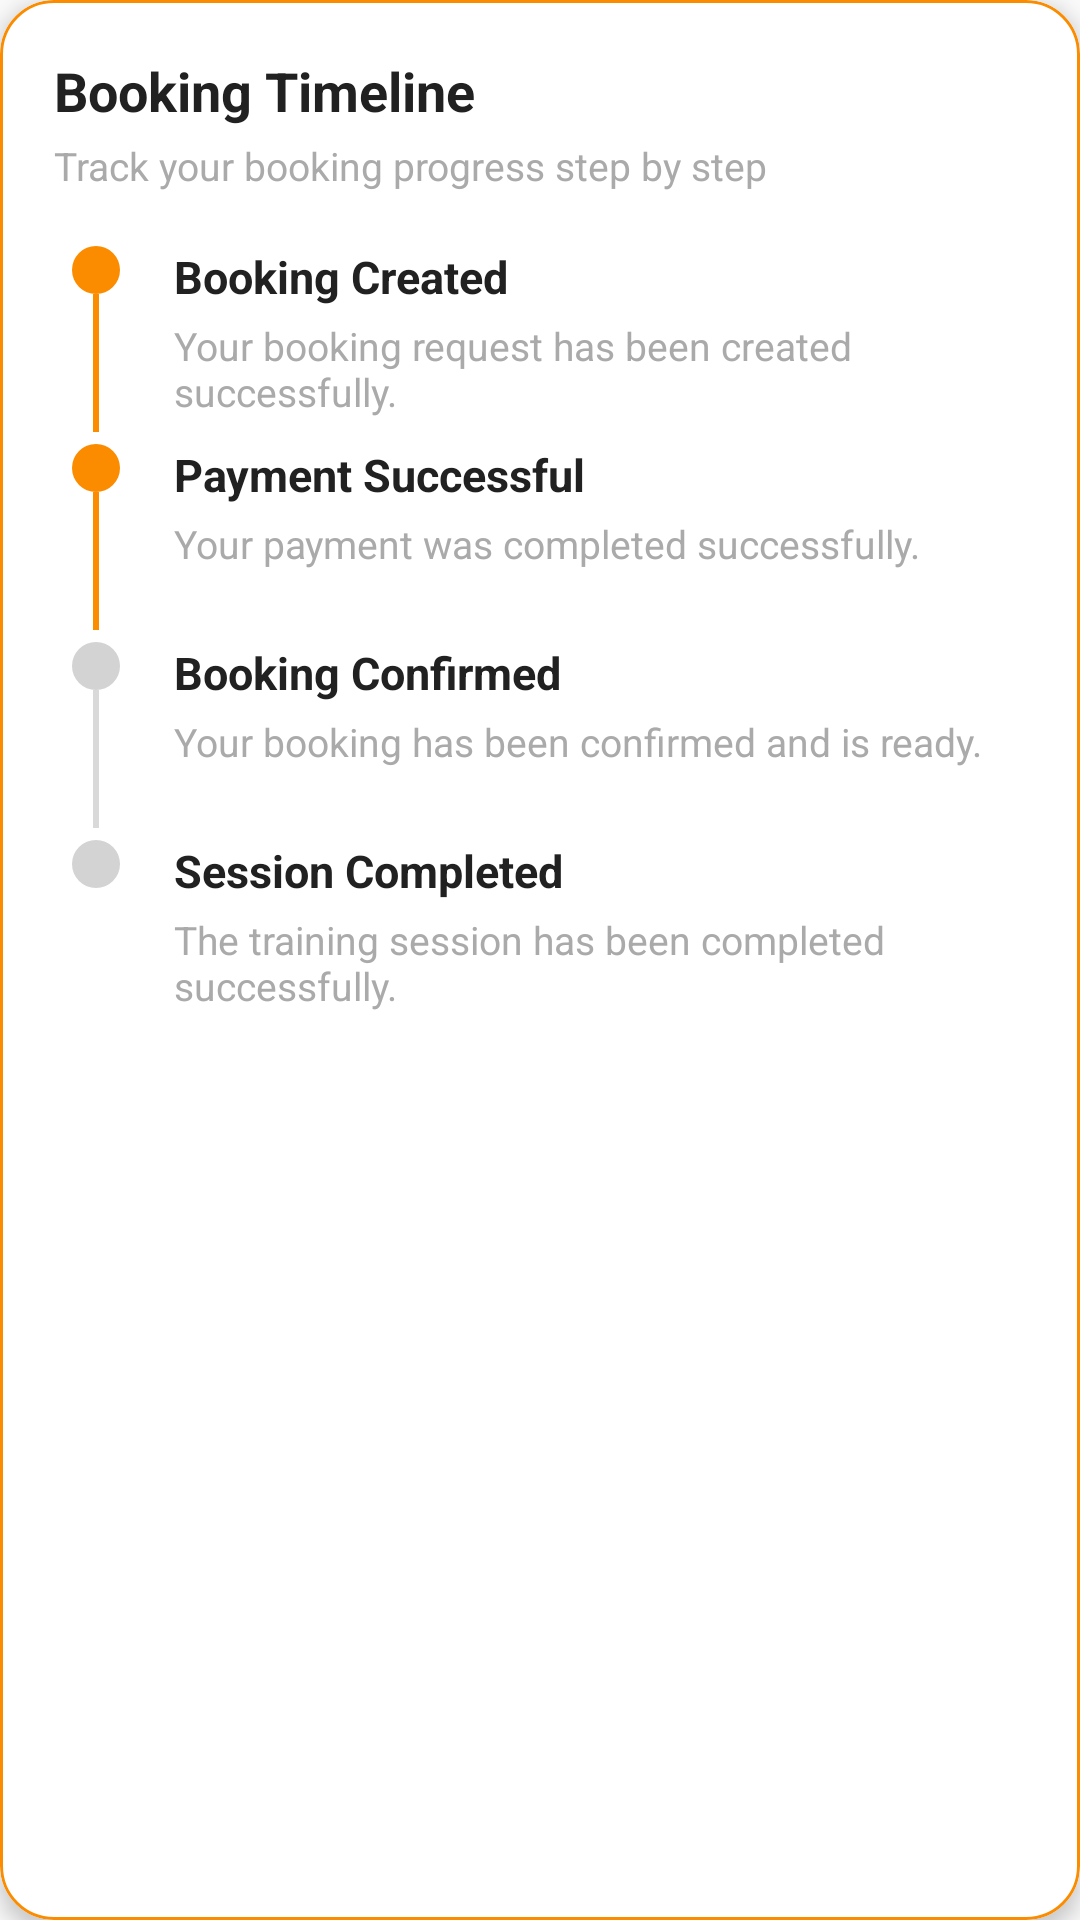

Where to tap for icons on this 1080px×1920px app screen, as [x,y]:
timeline dot: [96,270], [96,468]
